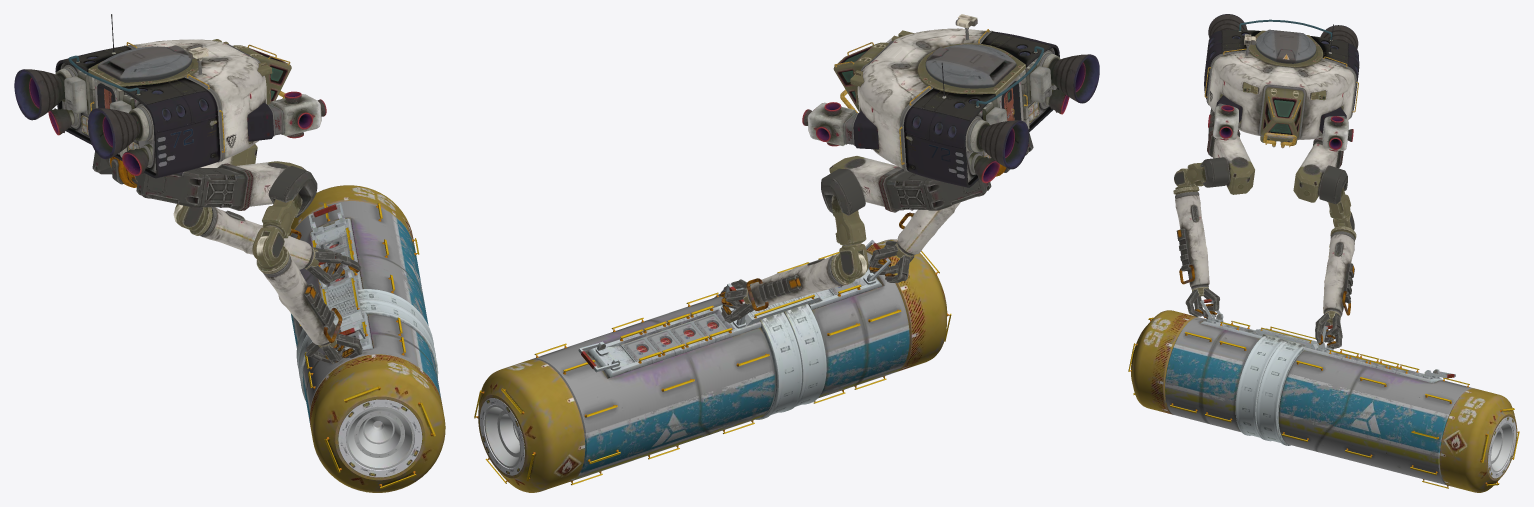
3 renders of one model, left to right at view 1: azimuth 30°, elevation 25°; view 2: azimuth 150°, elevation 25°; view 3: azimuth 270°, elevation 25°, orthographic. The views are drawn at different scales.
Parts seen in each view (by area): view 1: SHC_1_UV_3_0, SHC_1_UV_1_0, polySurface2980_Bochka1_0, polySurface2955_Bochka2_0, SHC_1_UV_2_0; view 2: polySurface2955_Bochka2_0, SHC_1_UV_1_0, polySurface2980_Bochka1_0, SHC_1_UV_3_0, SHC_1_UV_2_0; view 3: polySurface2955_Bochka2_0, SHC_1_UV_1_0, SHC_1_UV_3_0, polySurface2980_Bochka1_0, SHC_1_UV_2_0, SHC_1_GLASS_MAP_0.
Boxes of the visible parts, x1,y1,x2,y2 form: SHC_1_UV_3_0: (92,144,362,363); SHC_1_UV_1_0: (55,39,291,178); polySurface2980_Bochka1_0: (289,185,445,492); polySurface2955_Bochka2_0: (291,201,441,442); SHC_1_UV_2_0: (14,14,326,175); polySurface2955_Bochka2_0: (531,240,909,485); SHC_1_UV_1_0: (833,28,1059,187); polySurface2980_Bochka1_0: (474,239,951,492); SHC_1_UV_3_0: (719,133,1033,323); SHC_1_UV_2_0: (802,14,1099,183); polySurface2955_Bochka2_0: (1165,299,1473,488); SHC_1_UV_1_0: (1204,29,1359,139); SHC_1_UV_3_0: (1173,108,1356,348); polySurface2980_Bochka1_0: (1128,310,1519,492); SHC_1_UV_2_0: (1204,14,1358,151); SHC_1_GLASS_MAP_0: (1266,100,1297,133).
Size of the model in its own units: 32.44 by 29.68 by 30.91.
7 materials, 7 textured.
